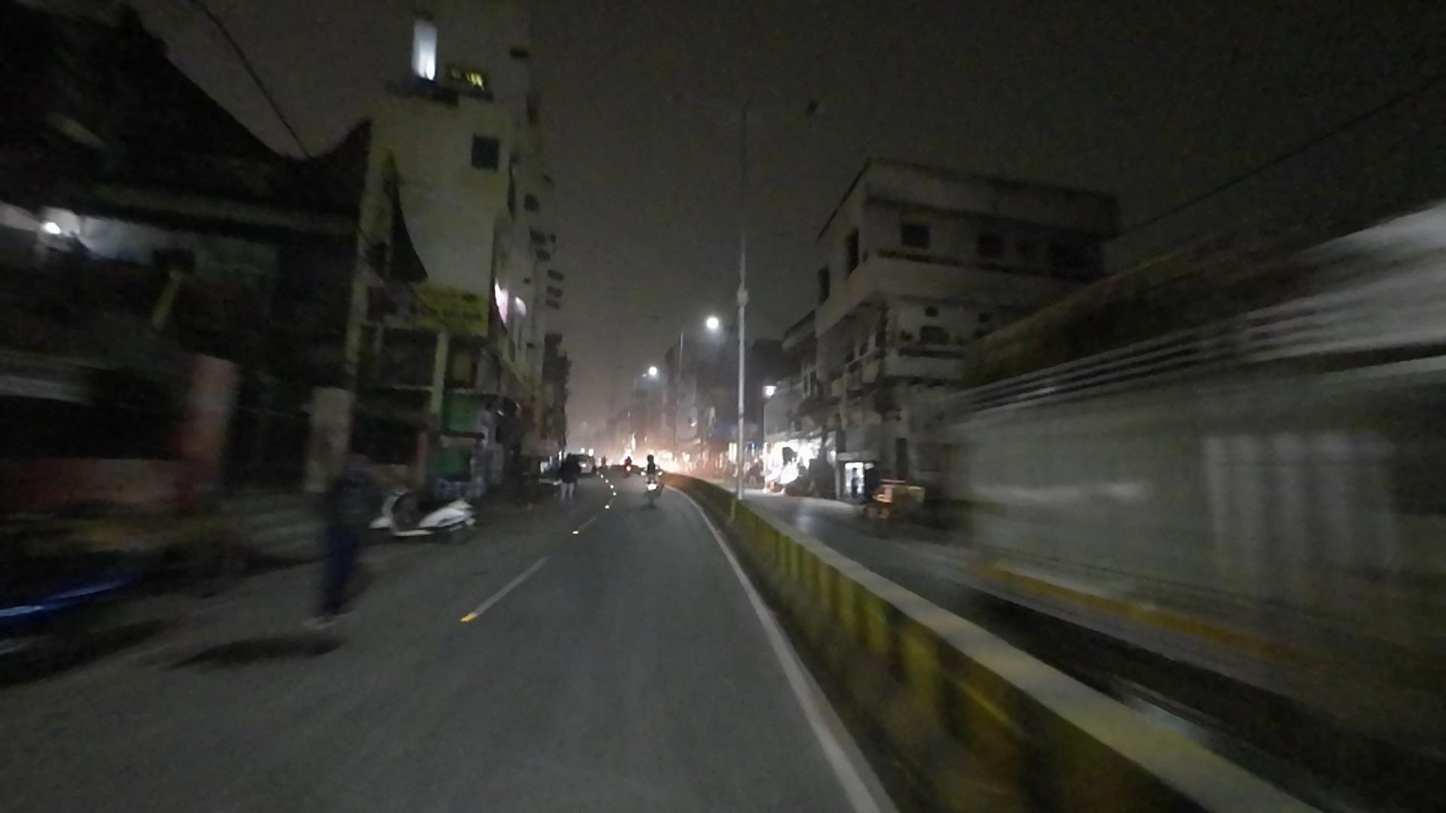streetlight: (757, 94, 832, 120)
